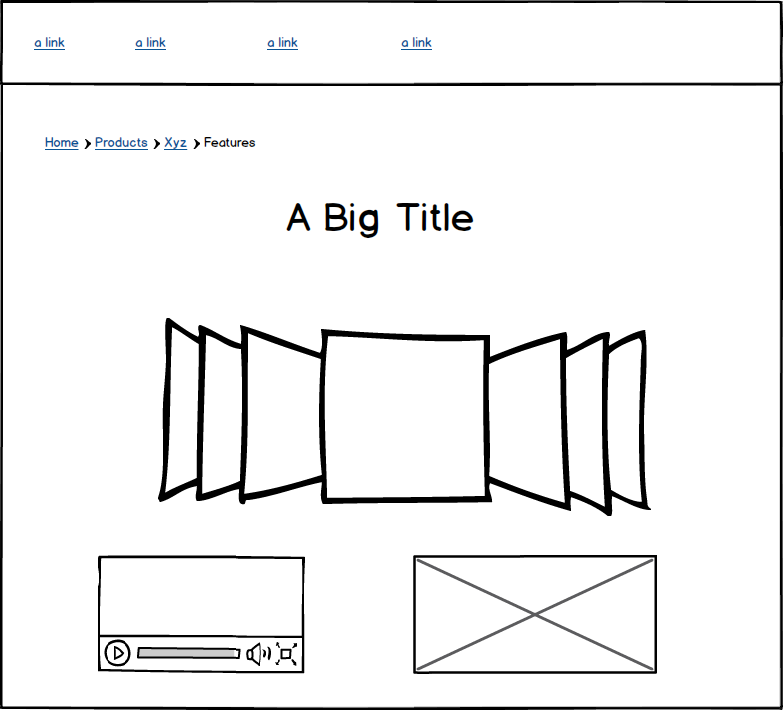h1: (283, 187, 482, 248), (35, 121, 263, 157)
image: (407, 550, 664, 681)
navlink: (388, 30, 449, 57), (259, 29, 310, 58), (127, 29, 173, 59), (28, 32, 76, 58)
slideshow: (152, 300, 660, 526)
video: (90, 548, 310, 680)
